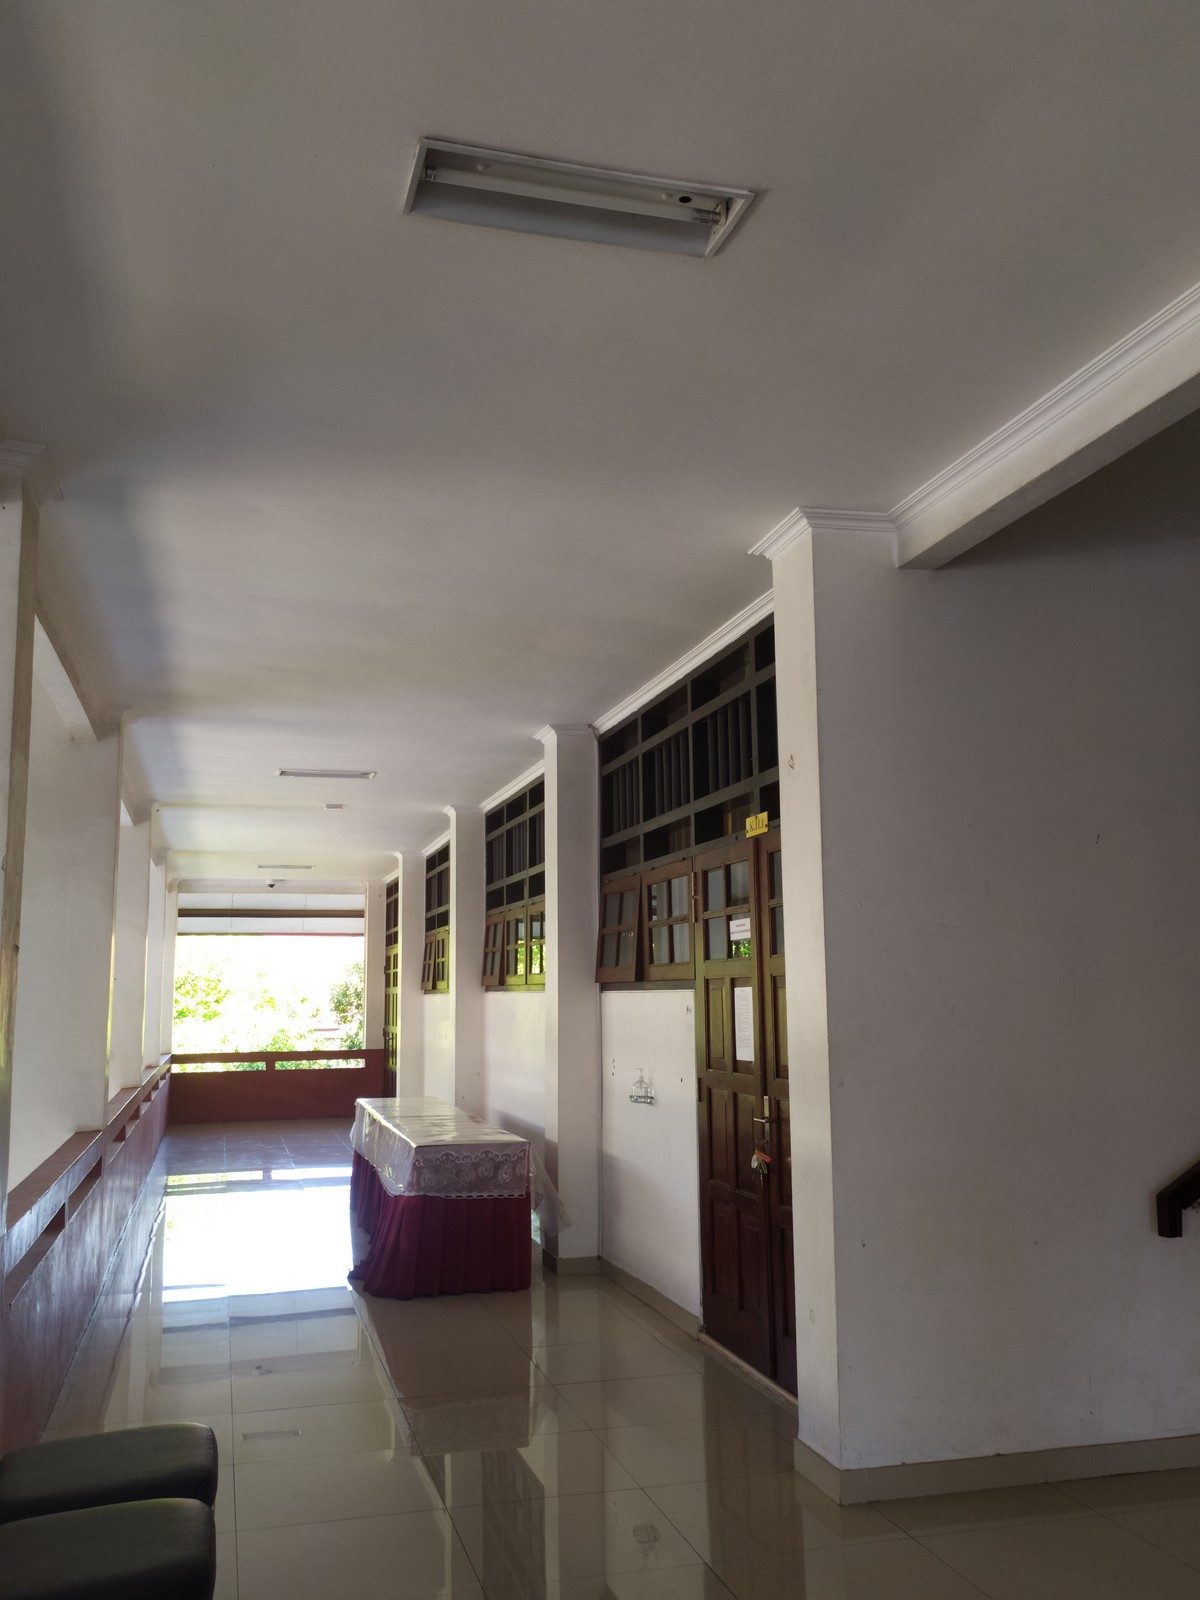concrete column: (761, 511, 923, 1503), (537, 722, 608, 1279), (442, 808, 495, 1128), (392, 850, 429, 1105)
